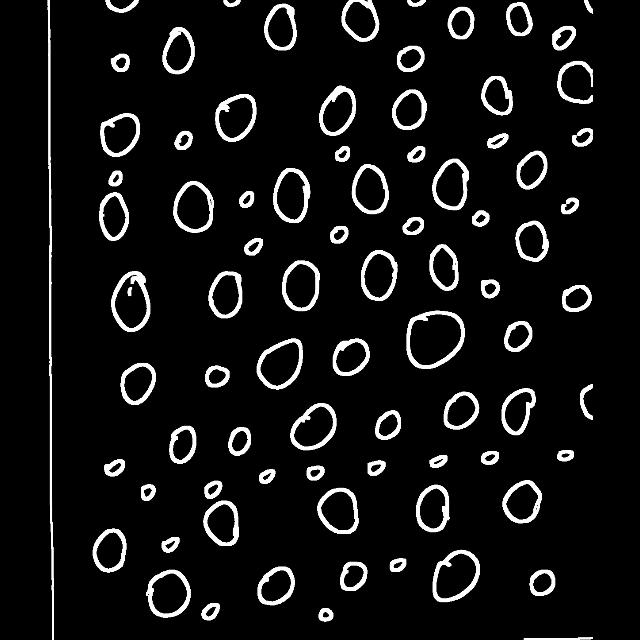circle: (398, 312, 472, 371), (208, 84, 270, 148), (429, 544, 487, 604), (268, 160, 316, 227), (284, 400, 340, 456), (88, 106, 148, 156), (109, 266, 151, 336), (252, 338, 306, 390), (344, 162, 396, 215), (111, 361, 173, 405), (330, 0, 384, 50), (280, 260, 328, 316), (168, 180, 214, 238), (349, 250, 399, 302), (436, 384, 488, 434), (474, 74, 530, 120), (255, 4, 301, 58), (494, 385, 540, 439), (314, 77, 356, 136), (314, 486, 360, 538), (86, 525, 130, 579), (144, 568, 190, 618), (250, 566, 302, 610), (200, 499, 246, 548), (510, 215, 552, 268), (502, 478, 550, 522), (387, 90, 437, 132), (431, 160, 471, 212), (162, 419, 200, 473), (324, 338, 376, 377), (552, 57, 592, 106), (412, 485, 454, 531), (424, 242, 461, 294), (92, 192, 130, 242), (205, 273, 247, 317), (501, 0, 541, 43), (158, 28, 192, 78), (337, 554, 378, 594), (369, 406, 406, 450), (512, 148, 550, 190), (522, 562, 560, 600), (394, 44, 432, 80), (444, 6, 480, 44), (500, 317, 540, 351), (219, 423, 253, 459), (204, 358, 236, 390), (250, 463, 288, 489), (545, 18, 579, 46), (95, 453, 126, 482), (200, 473, 234, 499), (398, 212, 432, 238), (386, 550, 414, 580), (309, 598, 343, 622), (92, 168, 132, 188), (300, 460, 328, 488), (104, 48, 132, 76), (562, 283, 590, 311), (483, 128, 513, 154), (168, 126, 195, 154), (478, 442, 506, 468), (200, 596, 224, 626), (467, 208, 501, 228), (156, 536, 182, 562), (366, 458, 394, 482), (236, 184, 256, 216), (550, 442, 576, 466), (426, 451, 452, 475), (329, 141, 355, 165), (242, 238, 268, 262), (134, 476, 156, 504), (404, 141, 426, 169), (324, 223, 352, 244), (558, 198, 582, 218), (480, 276, 500, 300), (570, 128, 592, 148)
